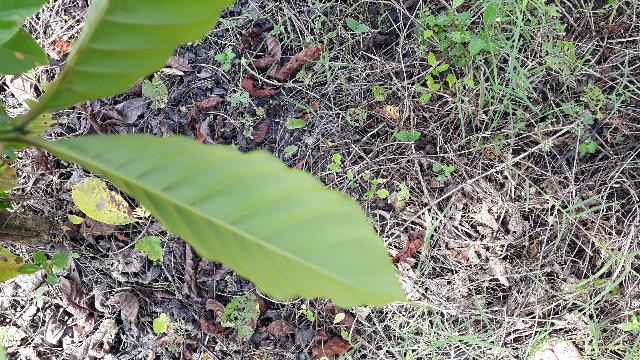healthy: (45, 136, 412, 306)
